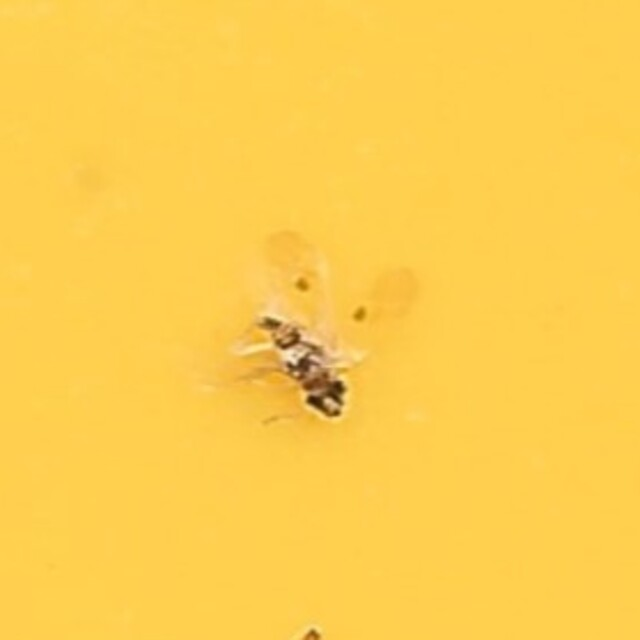Hemiptera: (229, 221, 411, 419)
